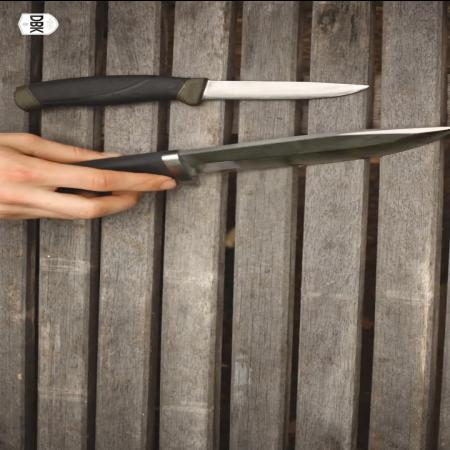long weapon: (107, 122, 449, 218), (163, 64, 391, 110)
